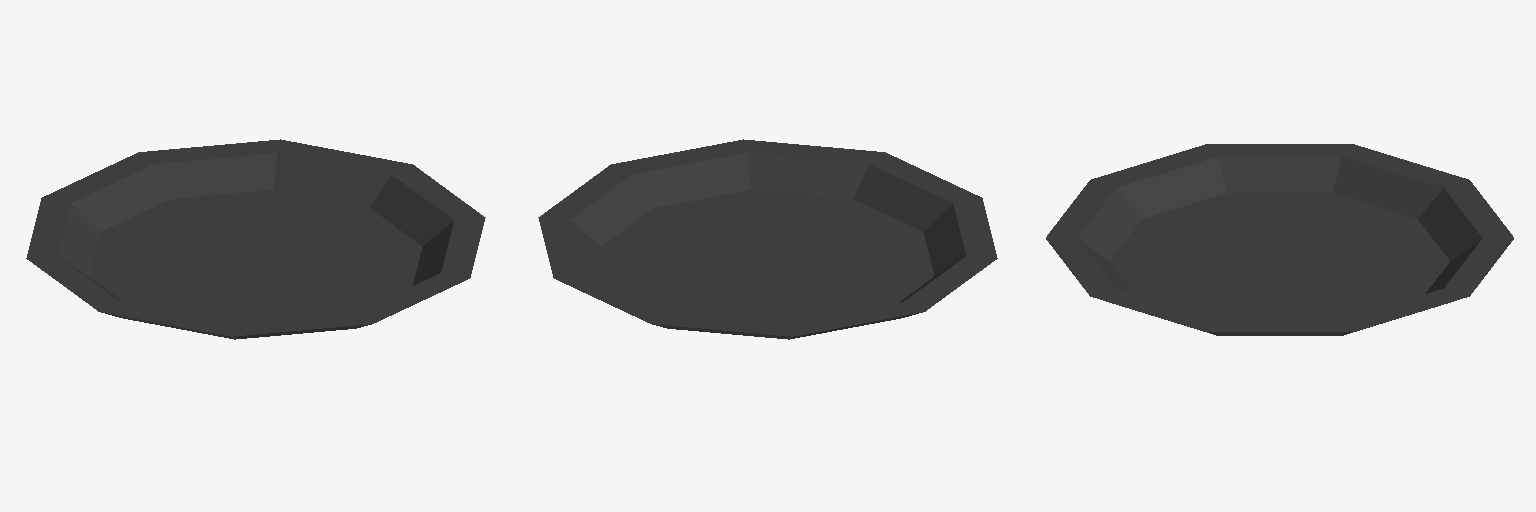
The model's file is Plate_01.obj.
3 views of the same model, side by side, from view 1: azimuth 30°, elevation 25°; view 2: azimuth 150°, elevation 25°; view 3: azimuth 270°, elevation 25° (orthographic).
Parts seen in each view (by area): view 1: Plate_01_Circle; view 2: Plate_01_Circle; view 3: Plate_01_Circle.
Part boxes in pixels (left/top/right/bottom): Plate_01_Circle: left=26, top=139, right=485, bottom=339; Plate_01_Circle: left=538, top=139, right=997, bottom=339; Plate_01_Circle: left=1046, top=144, right=1513, bottom=335.
Bounding box in the file's own units: 0.685 × 0.0605 × 0.7203.